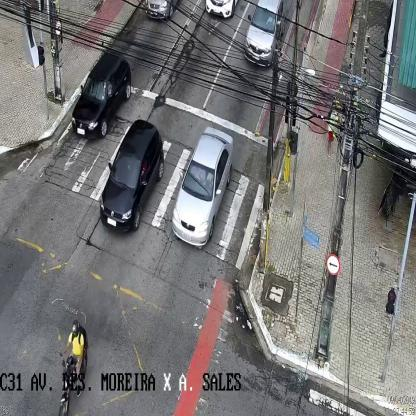car: (171, 126, 233, 247), (101, 120, 162, 232), (72, 51, 130, 139), (247, 0, 287, 66)
motorbike: (56, 320, 88, 416)
person: (328, 97, 336, 158)
